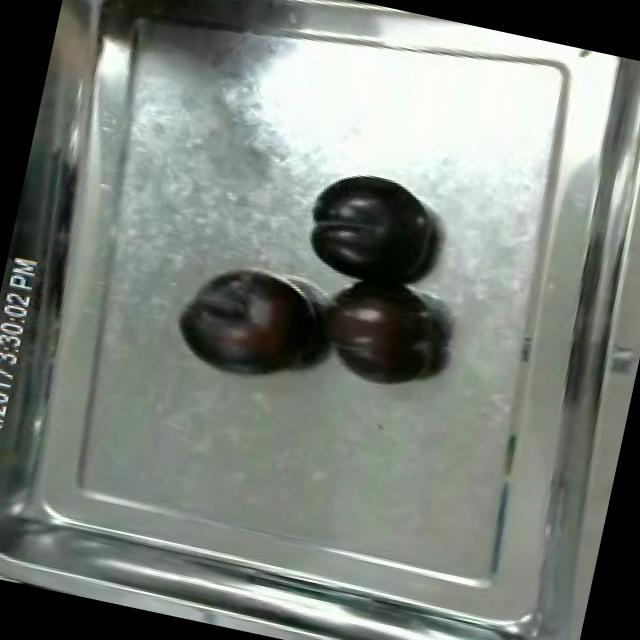Fruit: (162, 250, 328, 392), (293, 162, 449, 298), (302, 272, 446, 399)
